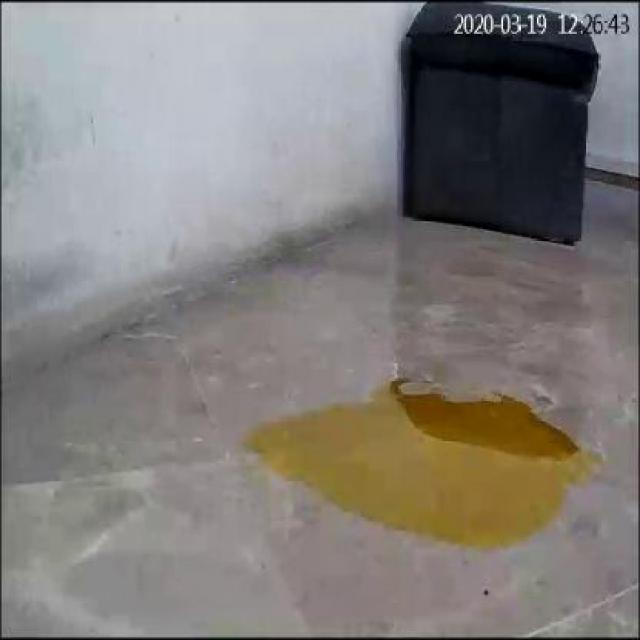spill: (243, 380, 599, 554)
